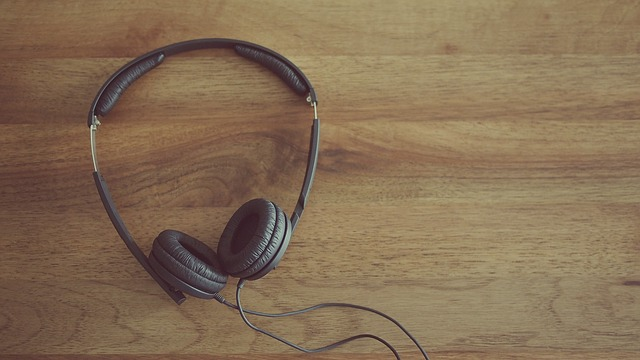headphones: (90, 39, 320, 305)
